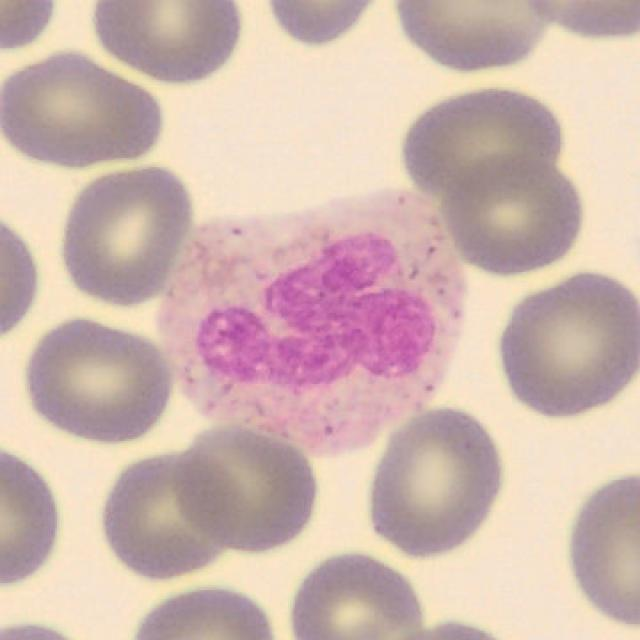Neutrofilo segmentado: (153, 190, 466, 460)
